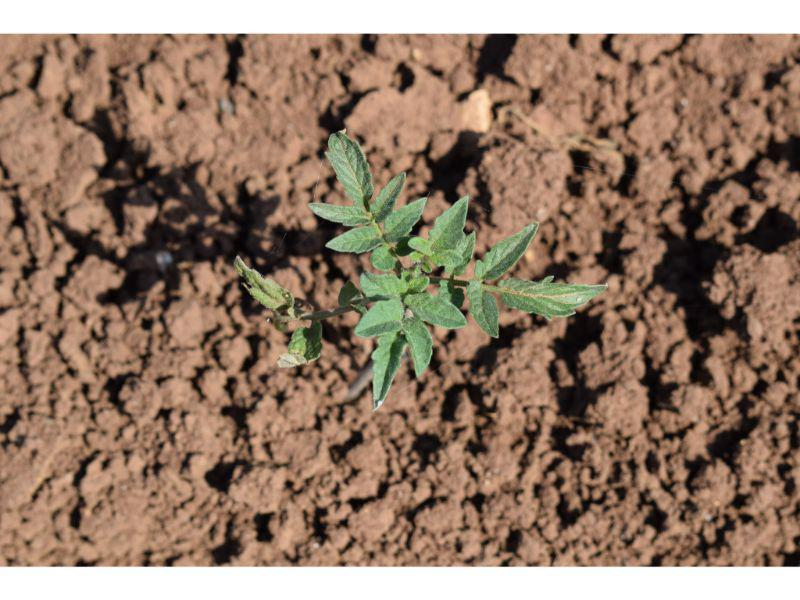tomato: (232, 129, 607, 408)
